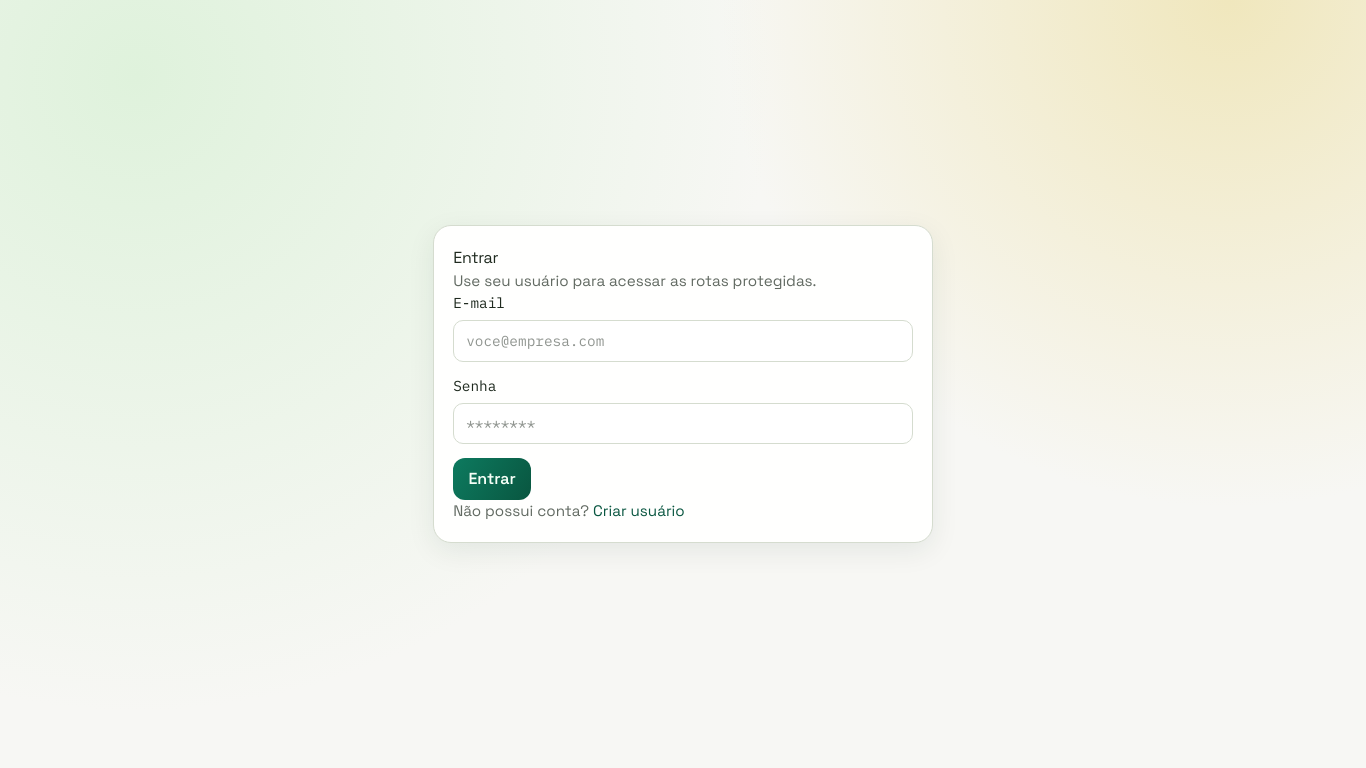
LoginPage › shows validation error when submitting with empty fields
The width and height of the screenshot is (1366, 768).
Click the button "Entrar" at (492, 479), box [453,458,531,500]
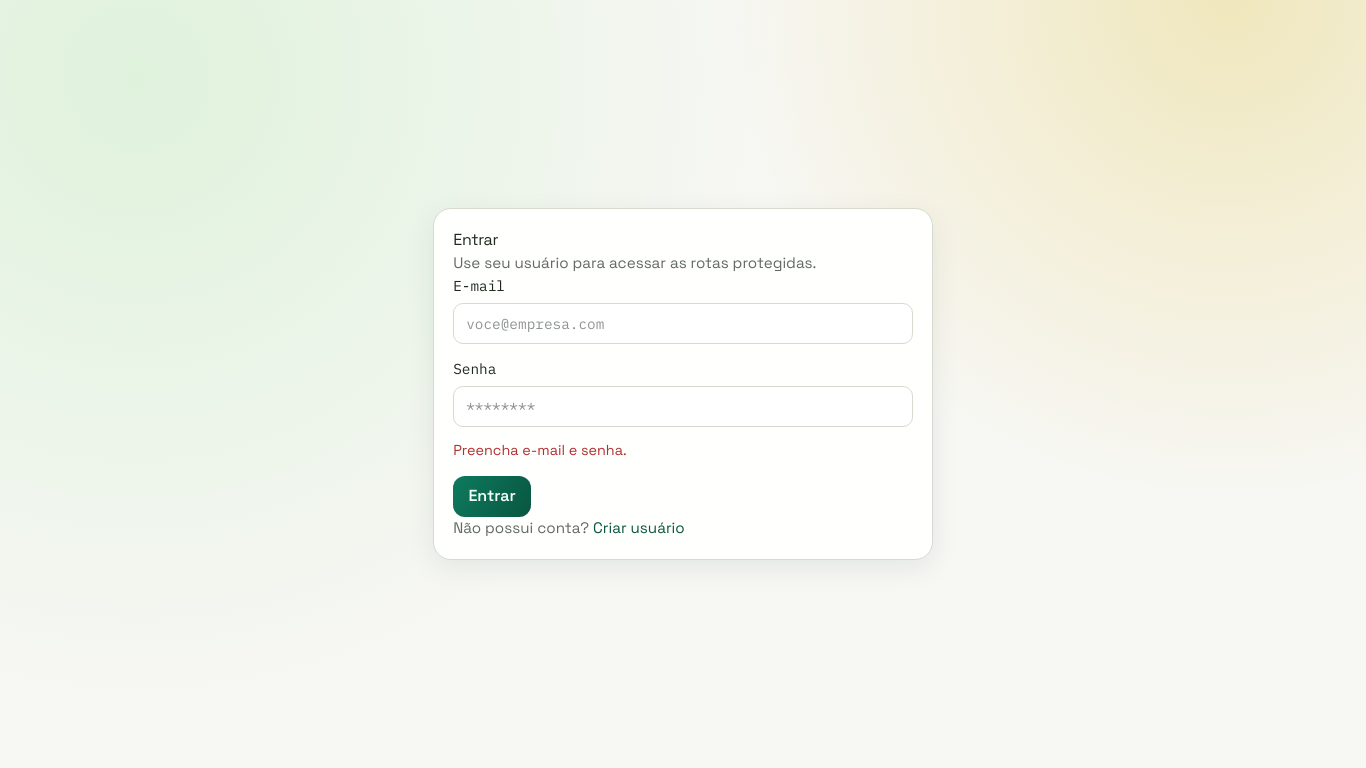
Check: the text "Preencha e-mail e senha." is shown, box [453,441,627,459]
